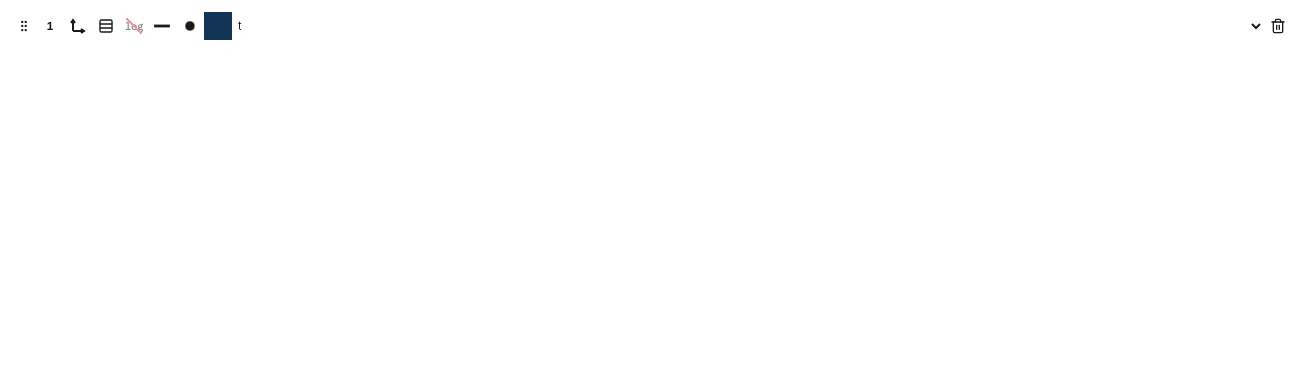
SeriesConfigUI axis controls › disables New axis with a reason when all nine are in use
Click the button named "Select Y-Axis": (50, 26) 36,12 -> 64,40
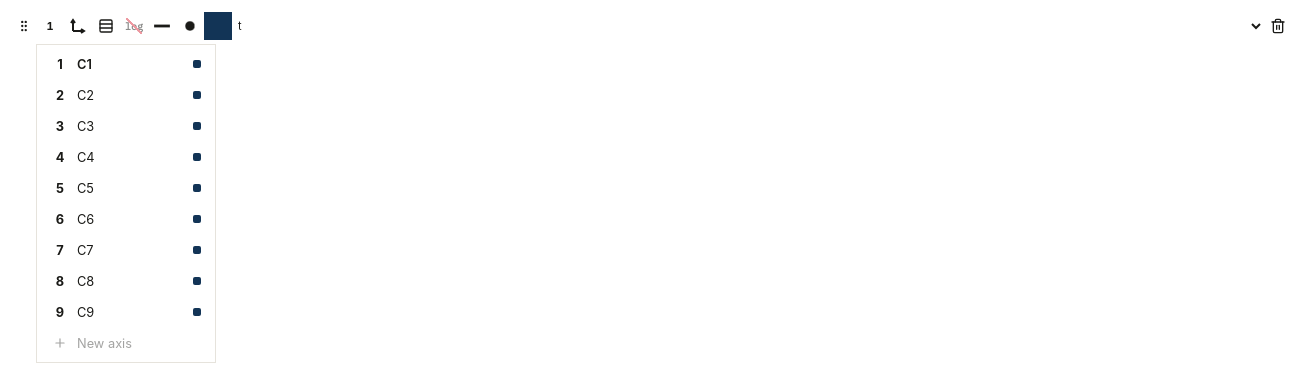
Expected: the button "New axis" is disabled, 41,328 -> 211,358
